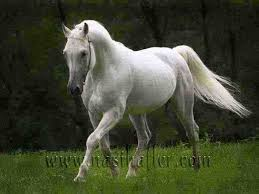horse: (58, 18, 242, 181)
